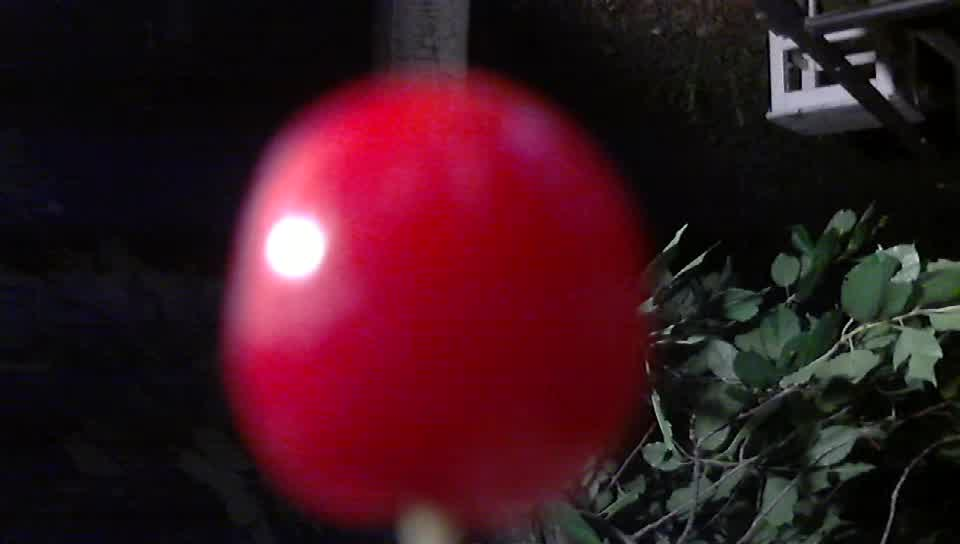Cherry: (145, 52, 737, 544)
